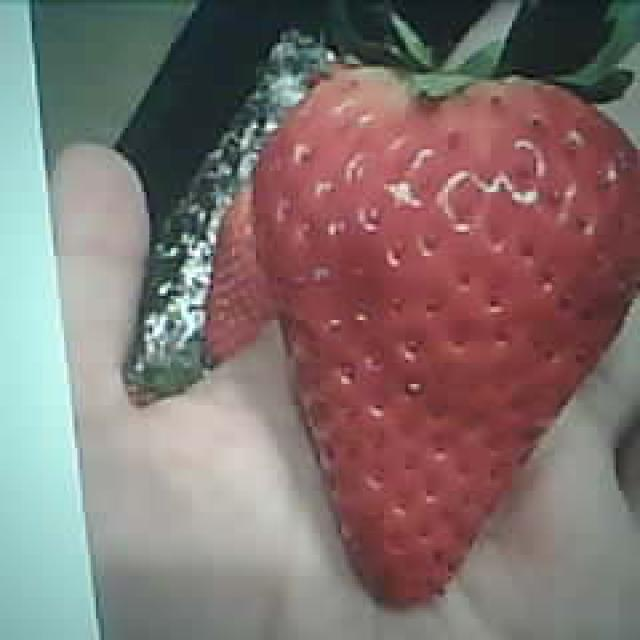strawberry: (256, 67, 640, 607)
